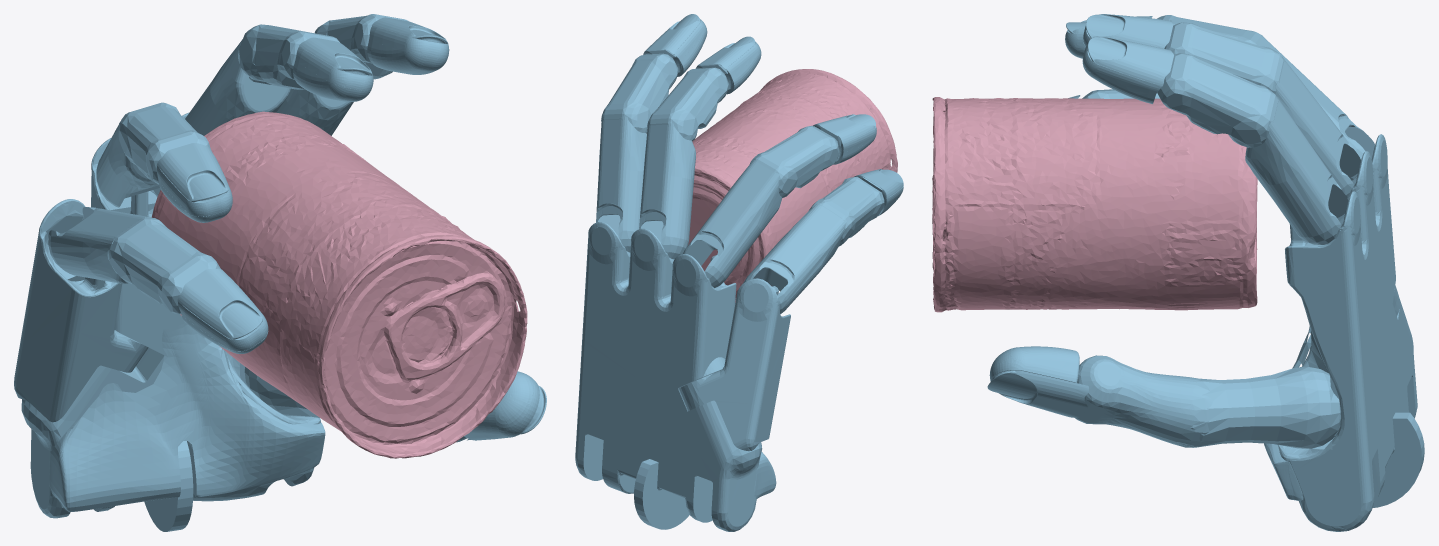
3 views of the same model, side by side, from view 1: azimuth 30°, elevation 25°; view 2: azimuth 150°, elevation 25°; view 3: azimuth 270°, elevation 25° (orthographic). The views are drawn at different scales.
Parts seen in each view (by area): view 1: world, tomato_soup_can.stl; view 2: world, tomato_soup_can.stl; view 3: world, tomato_soup_can.stl.
Boxes of the visible parts, x1,y1,x2,y2 form: world: [14, 14, 546, 531]; tomato_soup_can.stl: [151, 111, 527, 458]; world: [575, 14, 903, 531]; tomato_soup_can.stl: [688, 69, 897, 302]; world: [987, 14, 1424, 531]; tomato_soup_can.stl: [932, 97, 1257, 312].
Bounding box in the file's own units: 0.1092 × 0.1785 × 0.1542.
